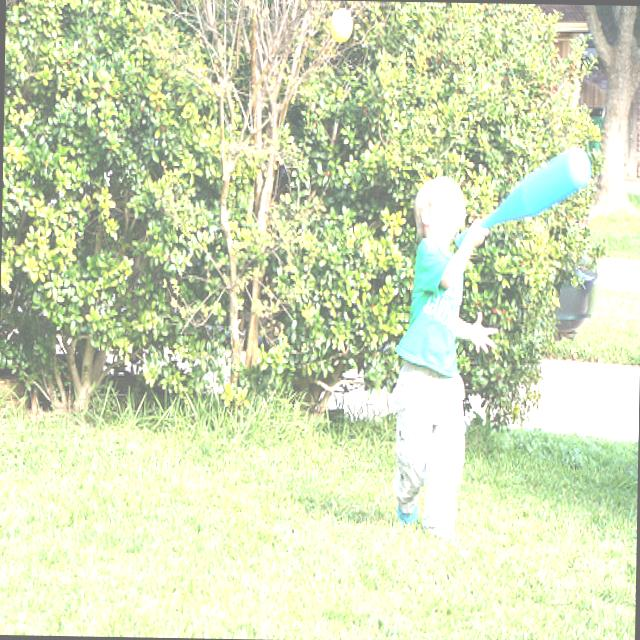Vehicle: (554, 266, 598, 341)
